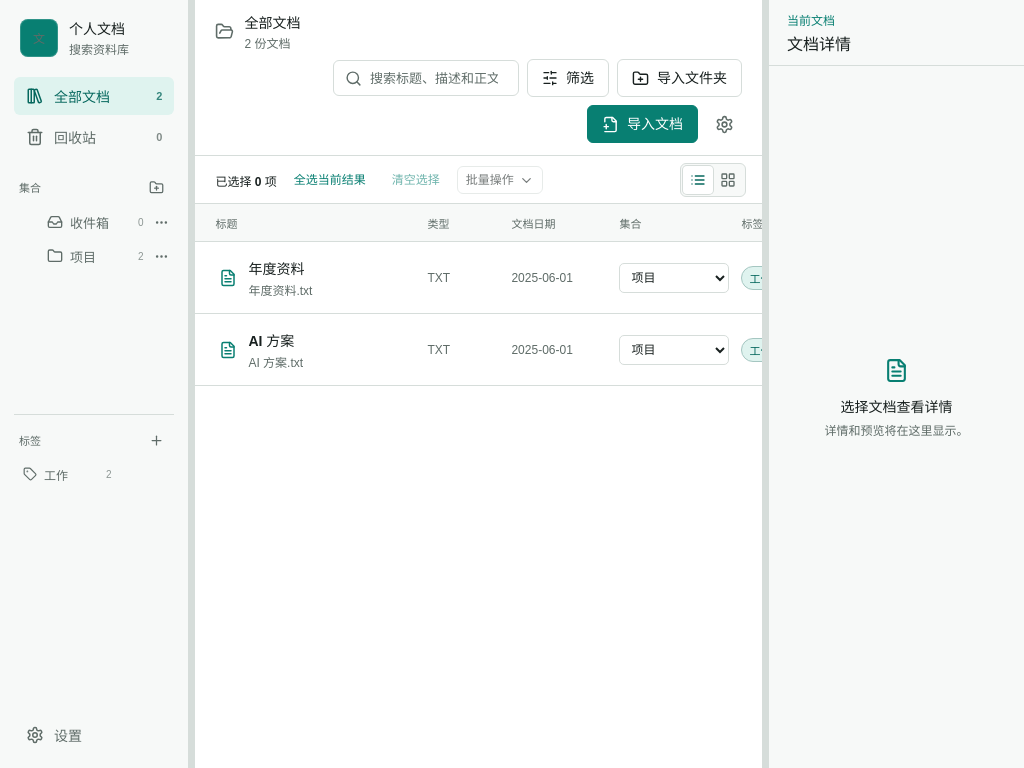
it: 全文搜索与筛选 › searches body content, shows a matching snippet and supports short metadata queries
expect the text "年度资料" is shown: met, box [248,260,304,276]
In the search field named "搜索文档": [440, 78] box [370,61,511,95], type "年度报告"
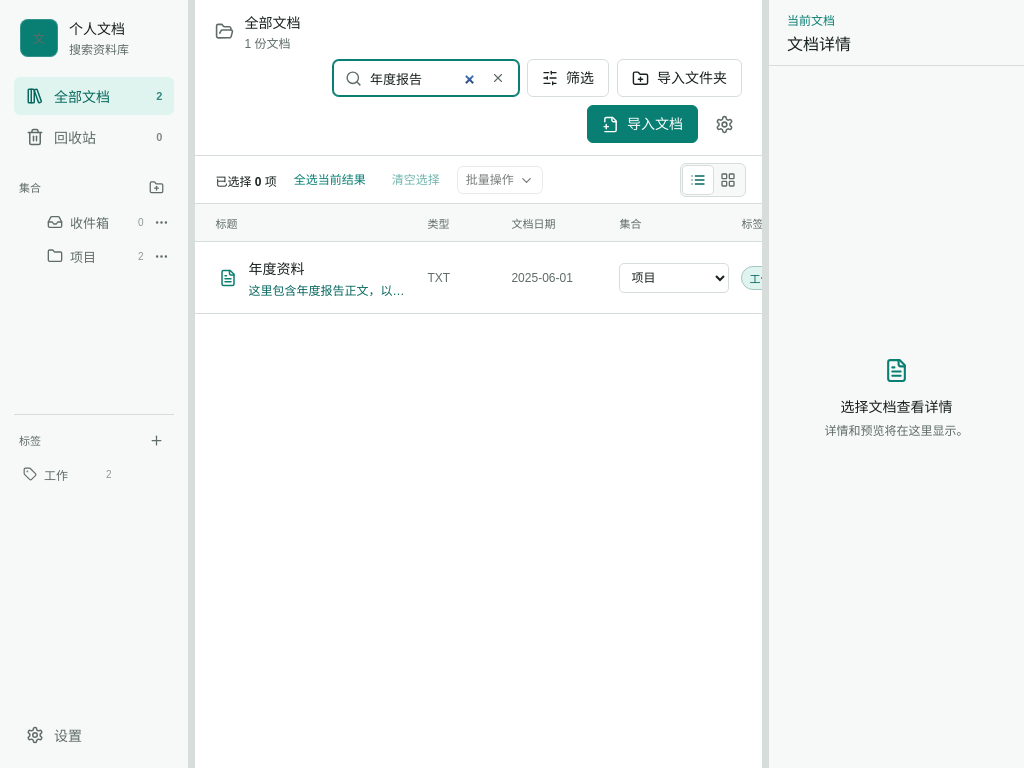
expect the text "这里包含年度报告正文，以及 mixed content。" is shown: met, box [248,280,411,298]
Clear the search field named "搜索文档": [424, 78] box [370,61,477,95]
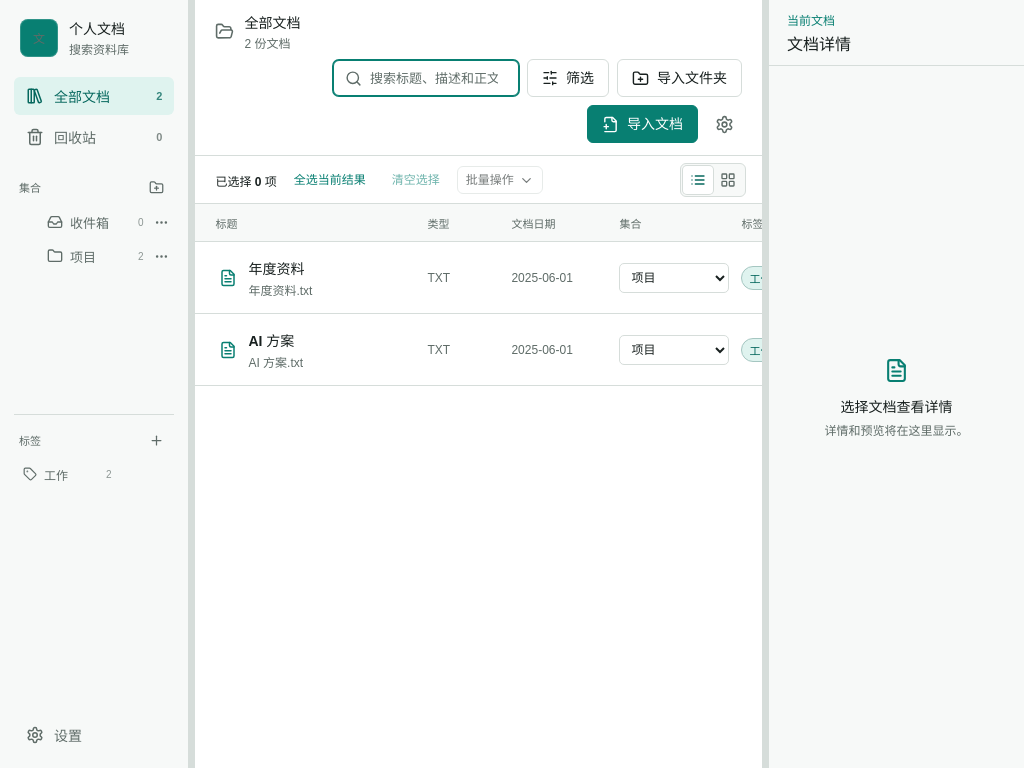
In the search field named "搜索文档": [440, 78] box [370,61,511,95], type "AI"
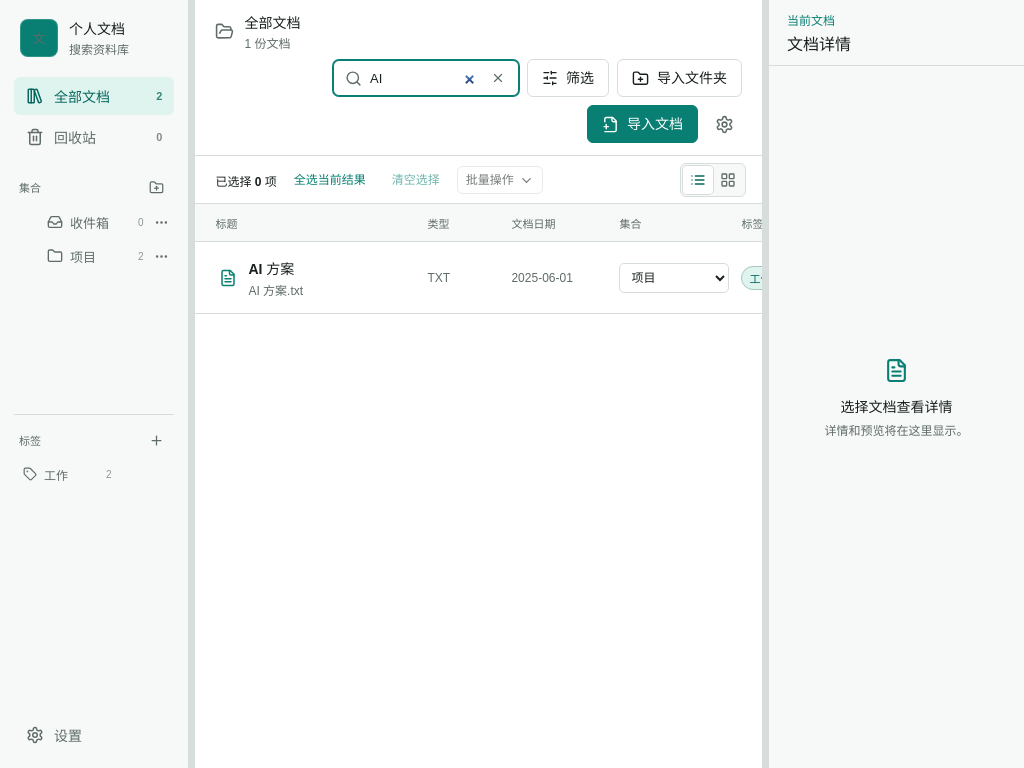
expect the text "AI 方案" is shown: met, box [248,260,294,276]
expect the button "年度资料" is gone: met
